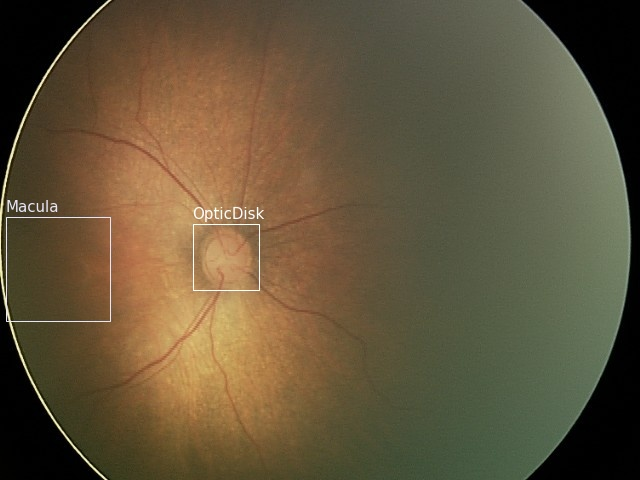Macula: (5, 216, 109, 320)
OpticDisk: (192, 223, 258, 289)
